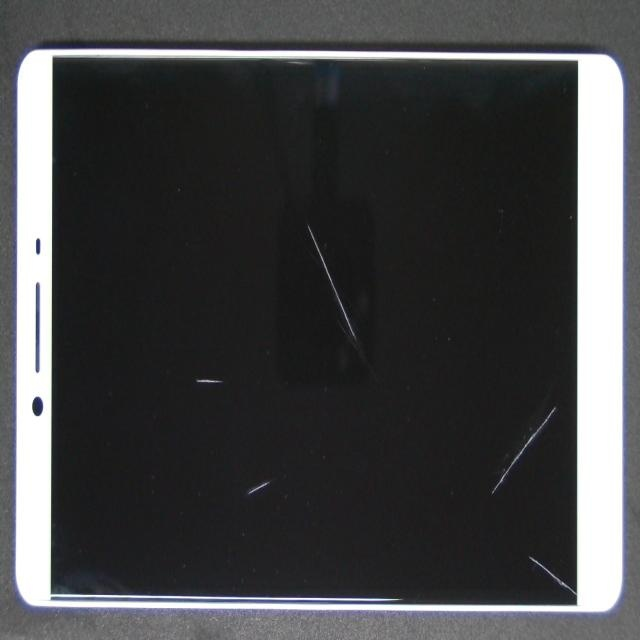scratch: (313, 145, 640, 640), (112, 12, 463, 375), (149, 226, 391, 640)
